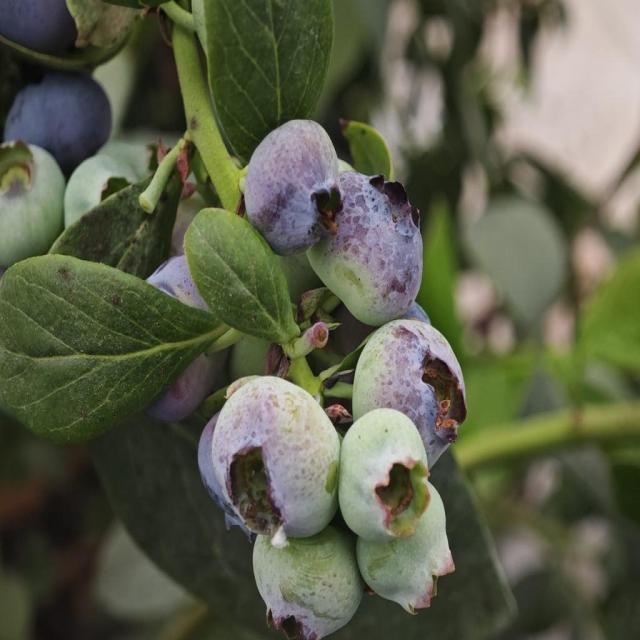Semi-RipeBlueBerry: (314, 167, 428, 322), (242, 115, 344, 259)
UnripeBlueBerry: (210, 373, 341, 544), (338, 404, 433, 544)
